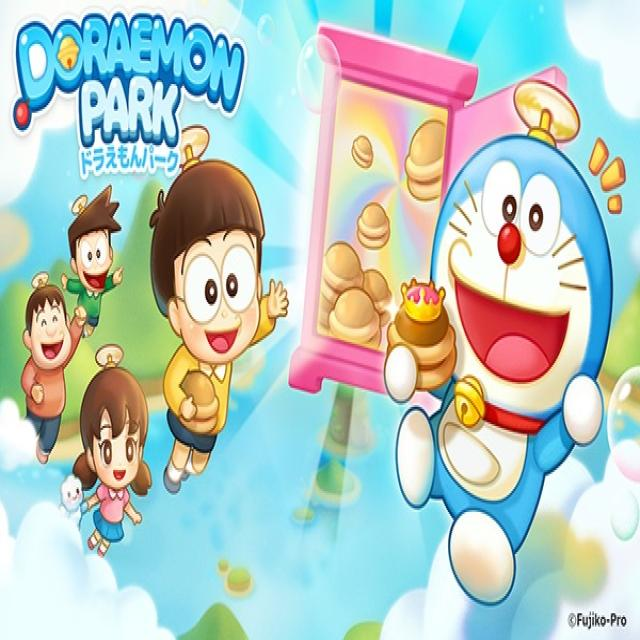doraemon: (422, 109, 623, 502)
jaian: (21, 264, 80, 403)
nobita: (145, 143, 281, 413)
shizuka: (68, 348, 157, 524)
suneo: (61, 174, 130, 317)
